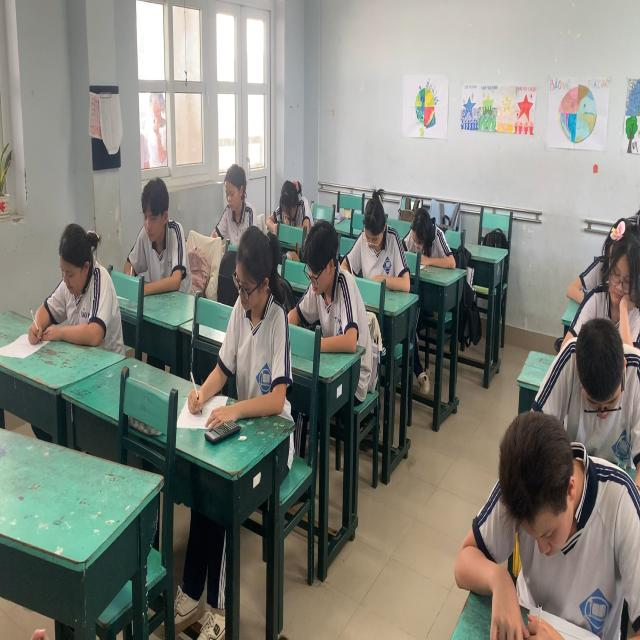not_cheating: (468, 410, 618, 640), (224, 233, 292, 441), (558, 296, 624, 458), (43, 220, 113, 338), (296, 212, 345, 358), (127, 178, 189, 288), (354, 186, 403, 292), (601, 209, 640, 313), (212, 158, 249, 244), (406, 200, 436, 260), (274, 175, 308, 223)
